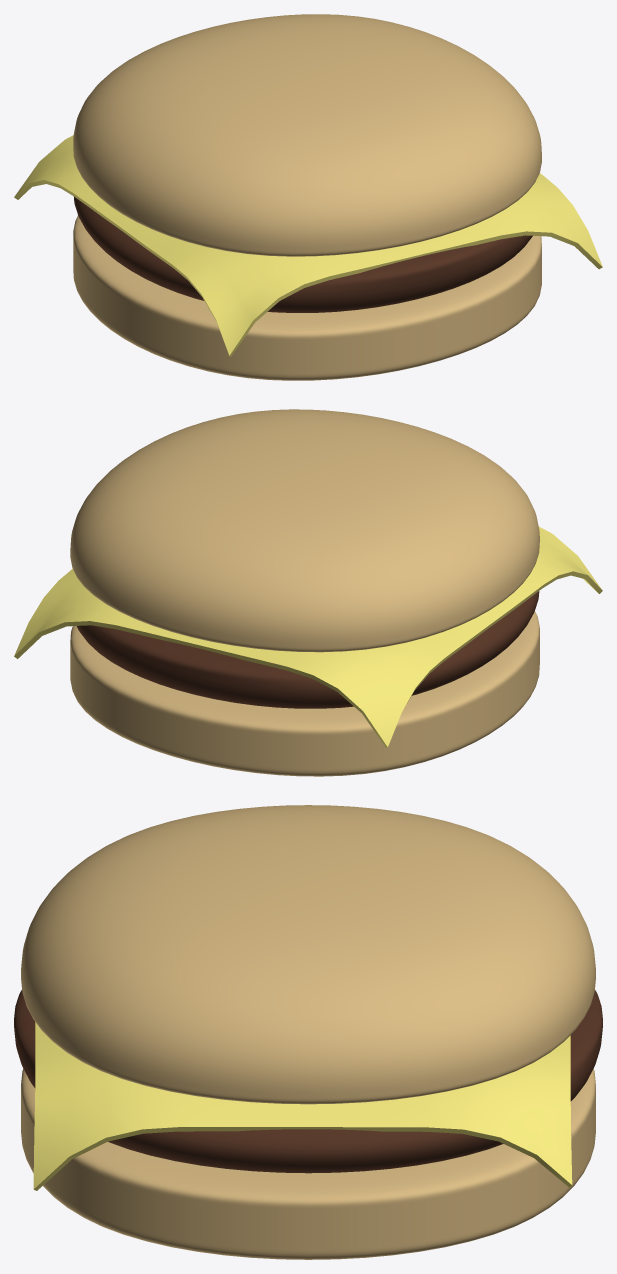
The model's file is hamburger.glb.
The picture shows the model from 3 angles, top to bottom: view 1: azimuth 30°, elevation 25°; view 2: azimuth 150°, elevation 25°; view 3: azimuth 270°, elevation 25°; orthographic projection. The views are drawn at different scales.
Visible parts, largest first — view 1: Top-Bun, Bottom-Bun, Cheese, Patty; view 2: Top-Bun, Bottom-Bun, Cheese, Patty; view 3: Top-Bun, Bottom-Bun, Cheese, Patty.
Boxes of the visible parts, box(x1,y1,x2,y2) form: Top-Bun: box(73, 14, 541, 256); Bottom-Bun: box(73, 215, 541, 380); Cheese: box(14, 135, 602, 357); Patty: box(73, 196, 532, 312); Top-Bun: box(70, 409, 539, 652); Bottom-Bun: box(70, 611, 539, 776); Cheese: box(14, 526, 602, 748); Patty: box(76, 591, 539, 708); Top-Bun: box(21, 805, 595, 1104); Bottom-Bun: box(21, 1068, 595, 1259); Cheese: box(33, 1022, 572, 1190); Patty: box(14, 990, 602, 1173).
Size of the model in its own units: 0.2332 by 0.1257 by 0.2388.
